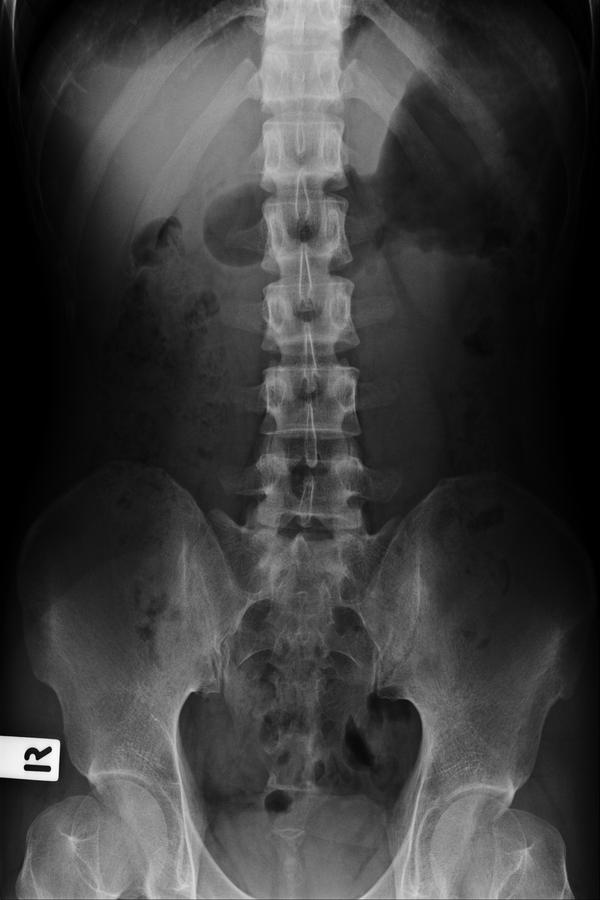lumbar scoliosis: (245, 5, 368, 586)
